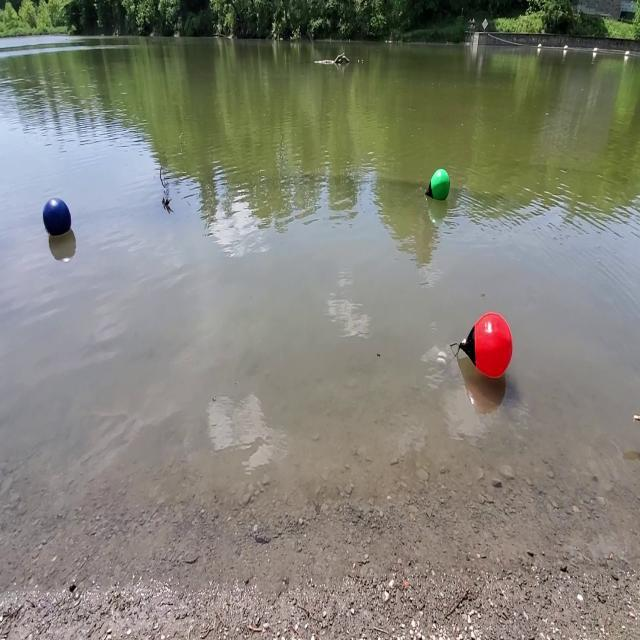buoy: (450, 308, 514, 383), (41, 195, 72, 242), (423, 164, 454, 204)
